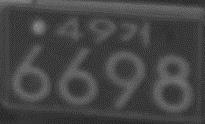4: (55, 14, 84, 42)
6: (10, 43, 52, 103), (57, 47, 98, 107)
8: (151, 52, 195, 113)
9: (104, 50, 147, 111), (87, 16, 117, 44)
거: (118, 20, 150, 47)
